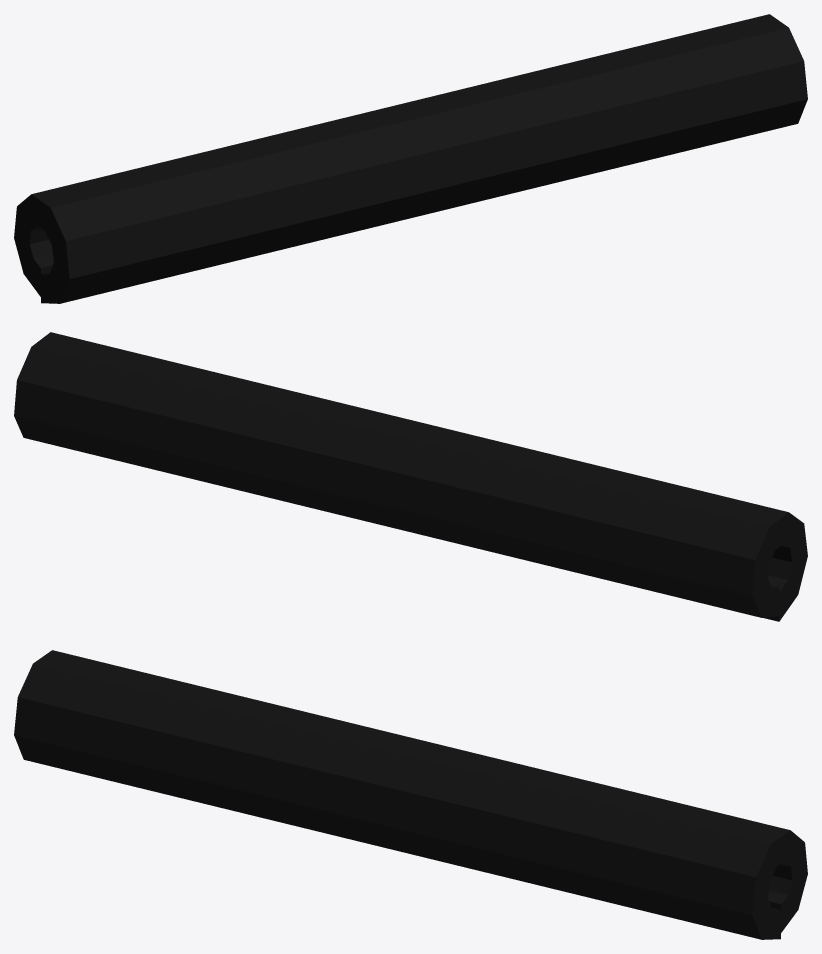
Rendered from BlackMat.fbx.
3 views of the same model, one above another, from view 1: azimuth 30°, elevation 25°; view 2: azimuth 150°, elevation 25°; view 3: azimuth 330°, elevation 25° (orthographic).
Parts seen in each view (by area): view 1: BlackMat; view 2: BlackMat; view 3: BlackMat.
Part boxes in pixels (<box>): BlackMat: <box>14,14,807,303</box>; BlackMat: <box>14,332,807,621</box>; BlackMat: <box>14,650,807,939</box>.
Bounding box in the file's own units: 78.8 × 10.46 × 10.29.
